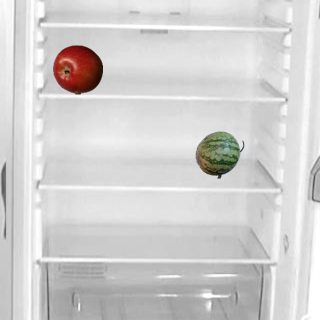Apple Braeburn: (52, 44, 102, 94)
Watermelon: (194, 129, 244, 179)
